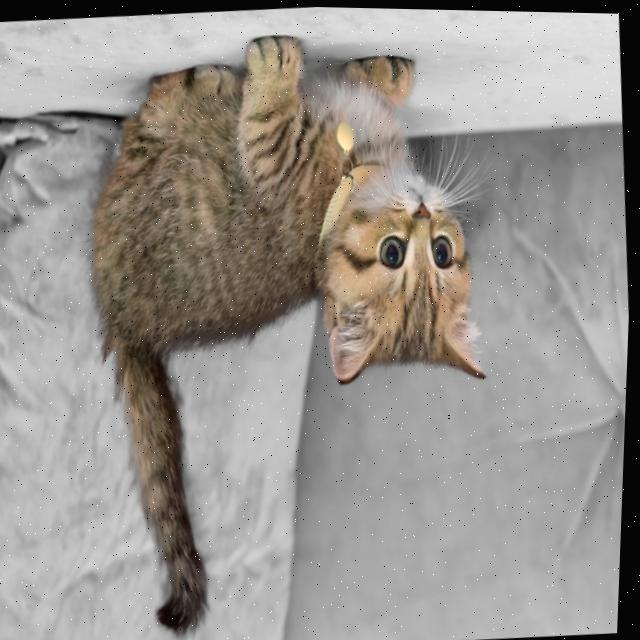Munchkin: (61, 9, 520, 640)
